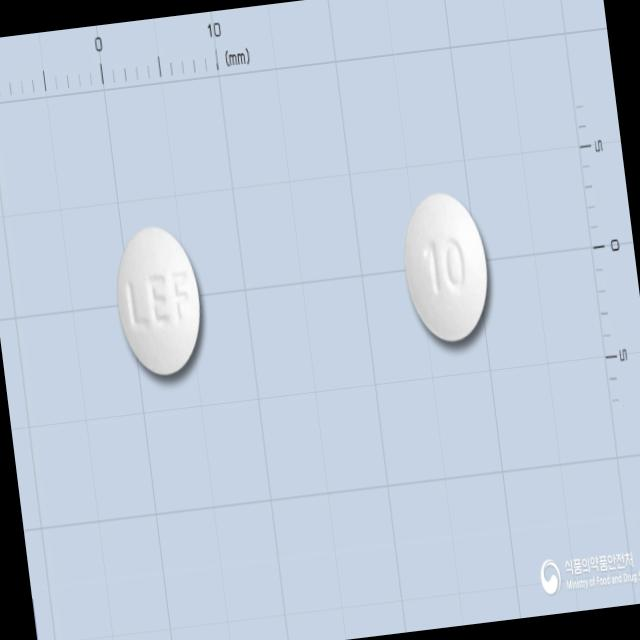R-A Tab: (394, 185, 497, 348), (108, 220, 210, 382)
